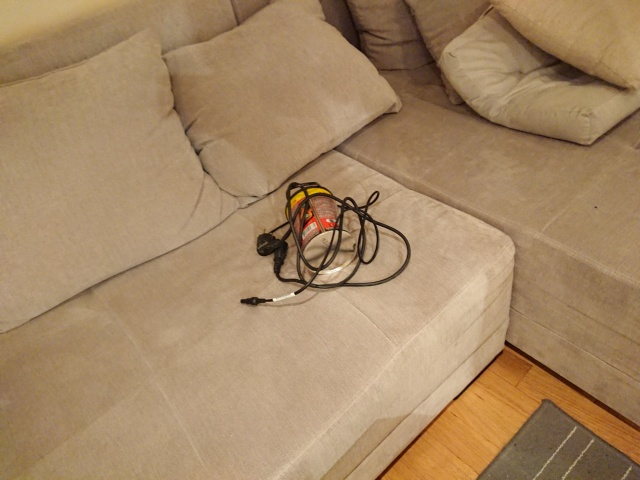Nescafe Classic 225g: (283, 184, 361, 277)
